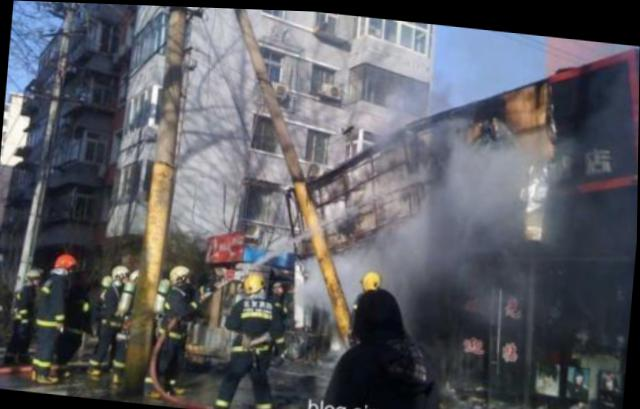smoke: (422, 126, 538, 258), (303, 233, 436, 299)
